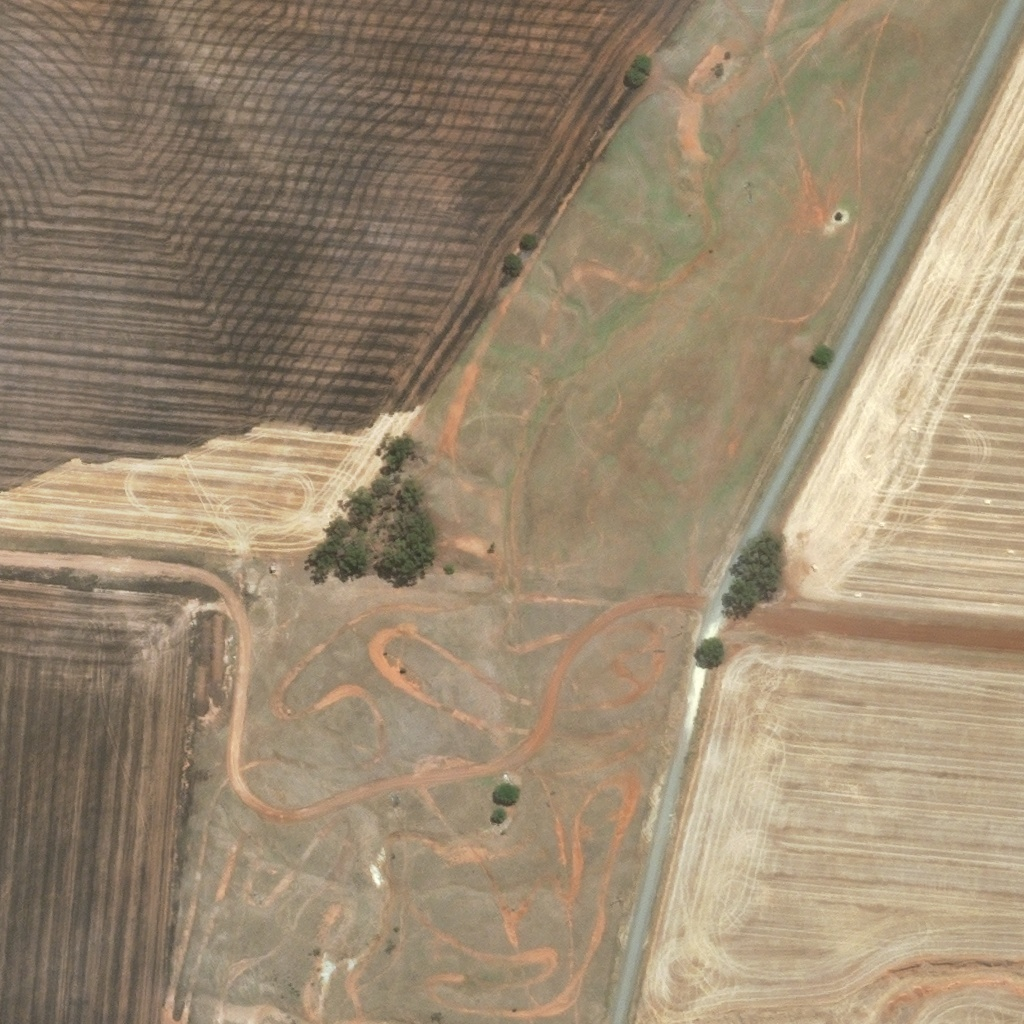4 un-classified: (834, 210, 843, 220), (269, 563, 278, 573), (269, 573, 278, 577)
